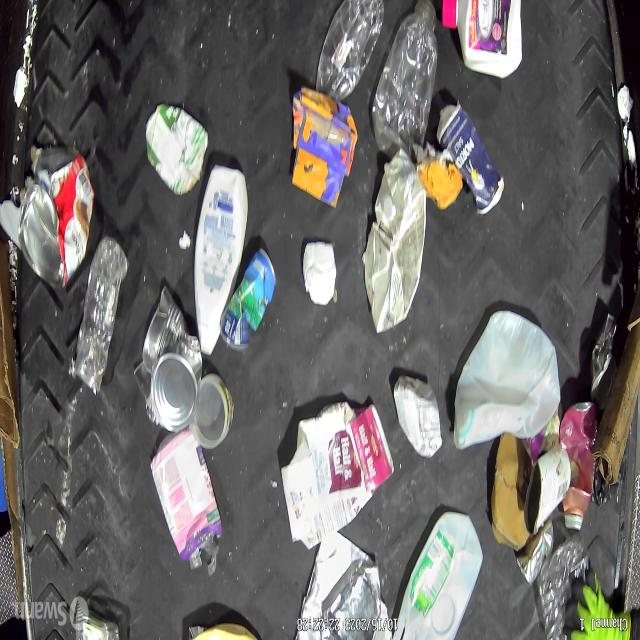can: (133, 285, 202, 433), (19, 158, 92, 290), (523, 448, 571, 537), (589, 313, 617, 410), (516, 518, 554, 585)
milk_jug: (453, 309, 560, 452), (393, 511, 482, 639)
non_white_jug: (280, 400, 395, 550), (364, 148, 426, 335), (442, 1, 522, 78)
plastic_bottle: (371, 0, 438, 159), (75, 235, 129, 394), (316, 1, 384, 100)
